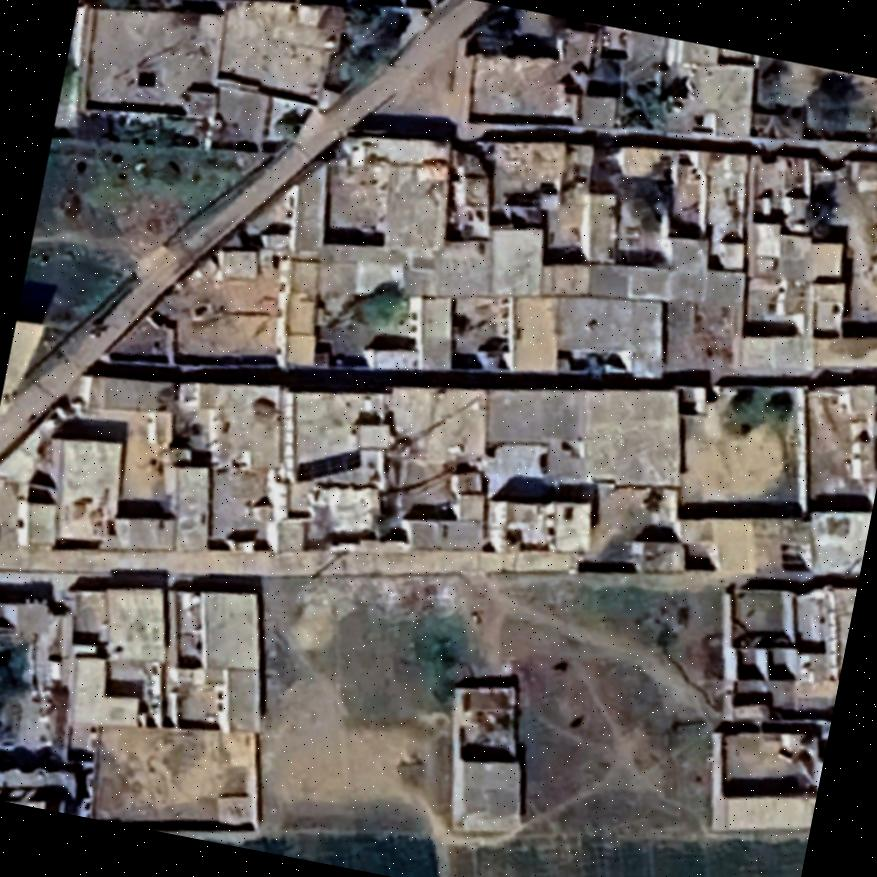Solarpanel: (291, 445, 364, 484)
